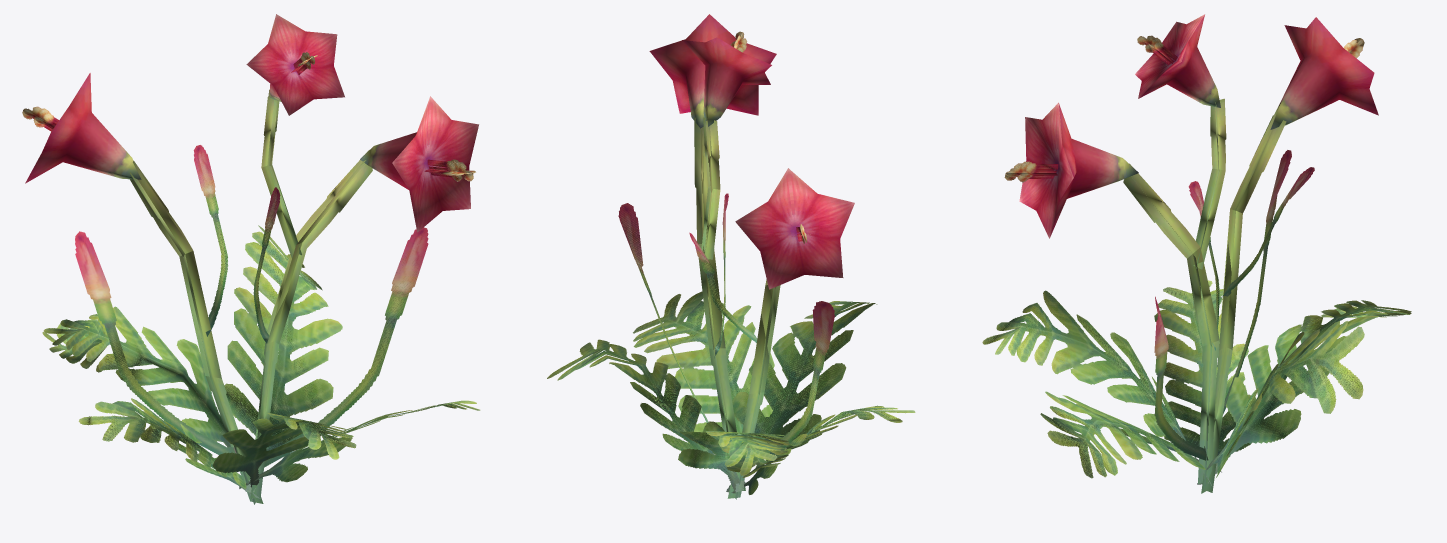
The model's file is zc_flower_03.FBX.
The picture shows the model from 3 angles, left to right: view 1: azimuth 30°, elevation 25°; view 2: azimuth 150°, elevation 25°; view 3: azimuth 270°, elevation 25°; orthographic projection. The views are drawn at different scales.
Visible parts, largest first — view 1: zc_flower_03; view 2: zc_flower_03; view 3: zc_flower_03.
Boxes of the visible parts, x1=… form: zc_flower_03: x1=22, y1=14, x2=480, y2=504; zc_flower_03: x1=547, y1=14, x2=915, y2=499; zc_flower_03: x1=982, y1=14, x2=1411, y2=493.
Bounding box in the file's own units: 104 × 108 × 127.
